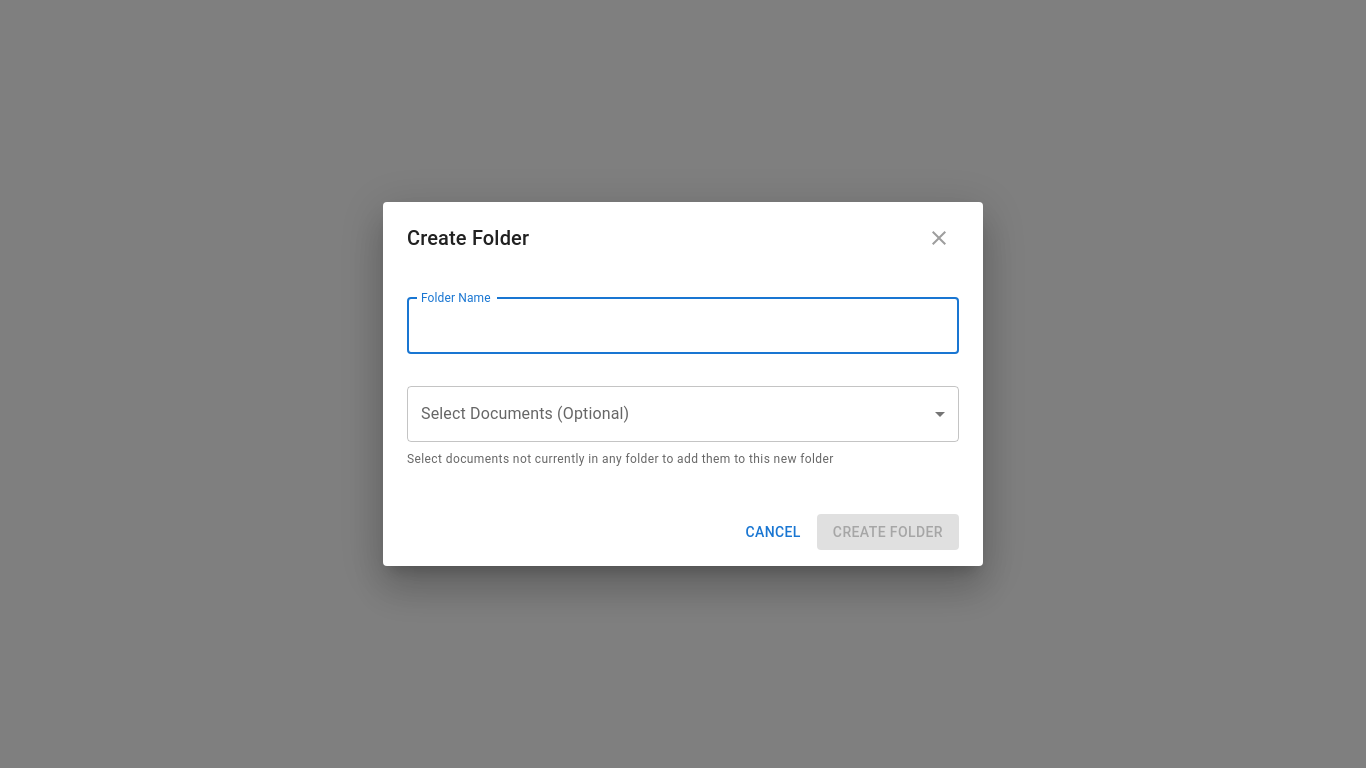
Test: CreateFolderModal › should display error when folder name already exists
Type "Existing Folder" into the field labelled "Folder Name".
click(683, 326); type("Existing Folder")  # box top-left (407, 298), bottom-right (959, 354)
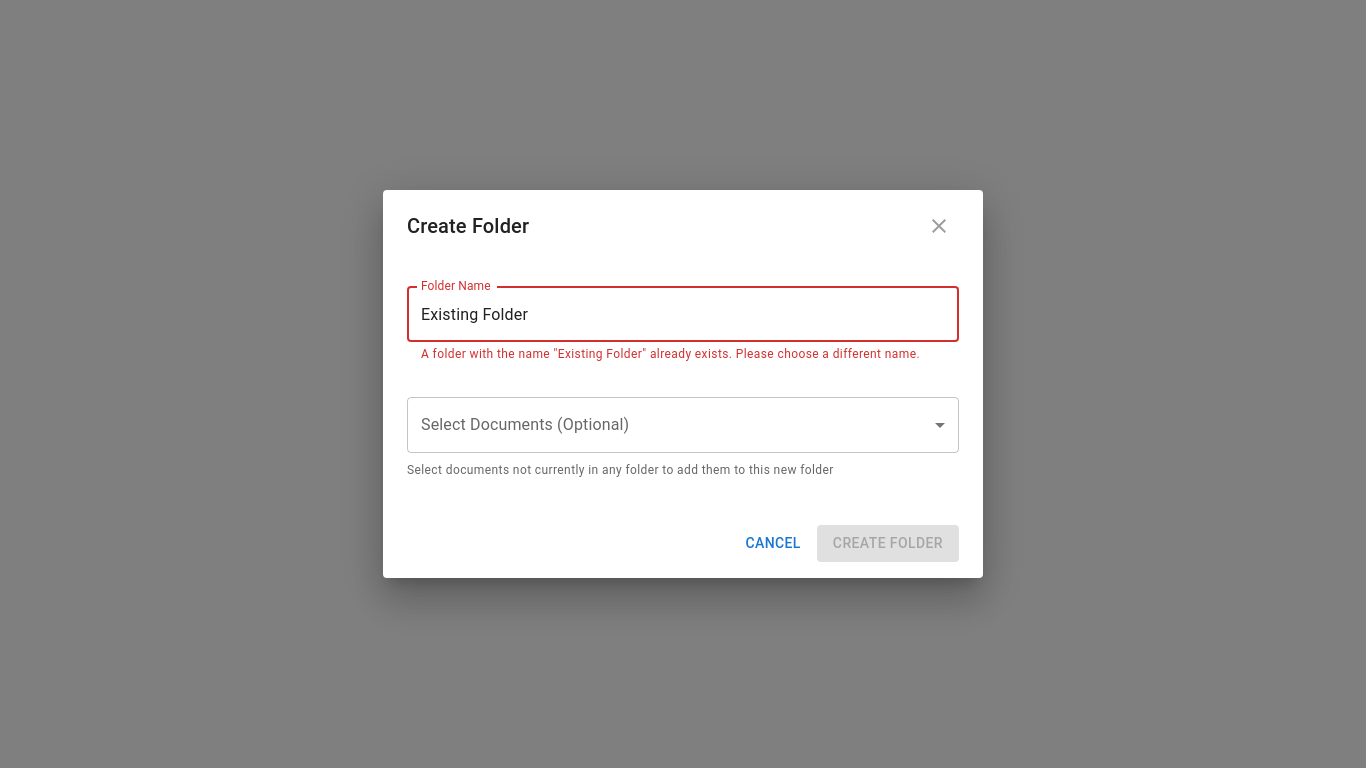
Check: the button with test id "create-folder-submit-button" is disabled, box top-left (817, 525), bottom-right (959, 562)
Check: the text "A folder with the name \"Existing Folder\" already exists" is shown, box top-left (421, 347), bottom-right (920, 361)
